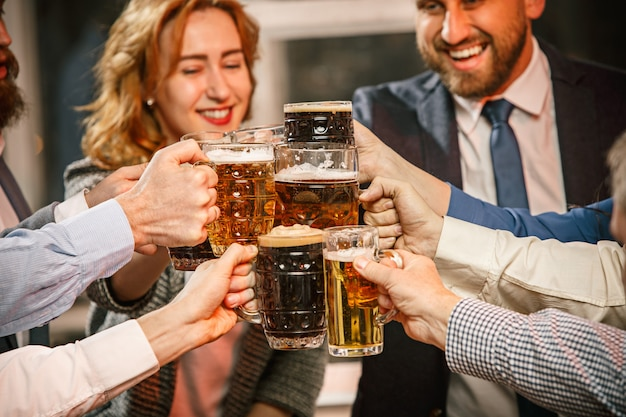alcohol: (237, 228, 333, 350), (322, 227, 408, 358), (188, 141, 276, 260), (272, 145, 374, 232), (280, 103, 361, 172)
